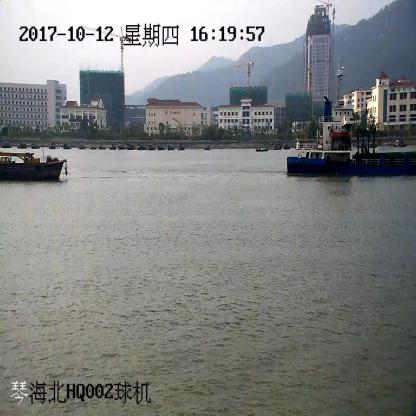Fishing Boat: (0, 151, 69, 180)
